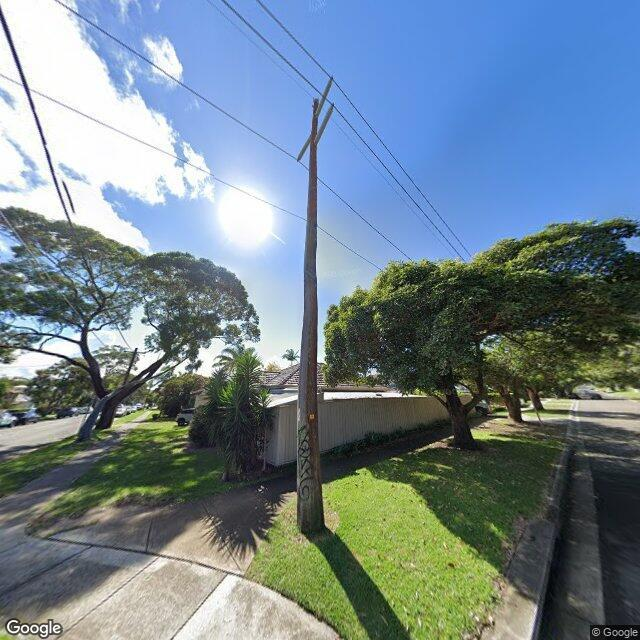HV-transmission: (296, 77, 335, 162)
timber-pole: (296, 100, 324, 534), (122, 348, 138, 387)
